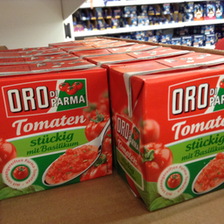tomato_sauce: (109, 52, 224, 210), (1, 59, 112, 202)
